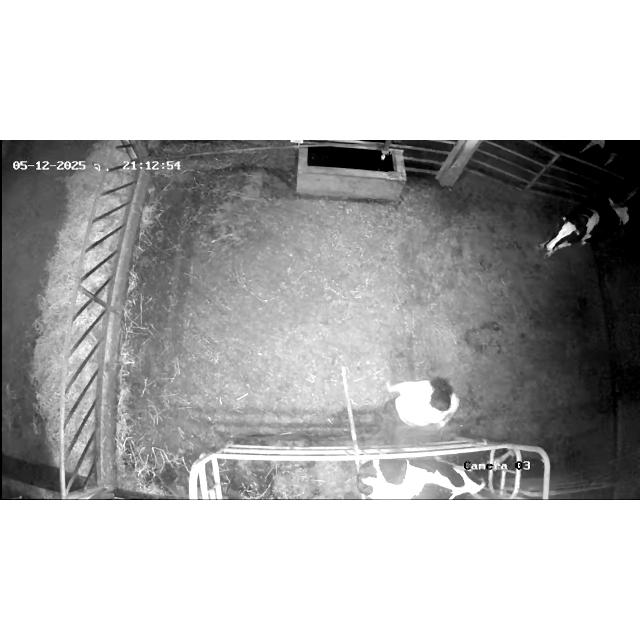stand: (528, 184, 638, 266)
